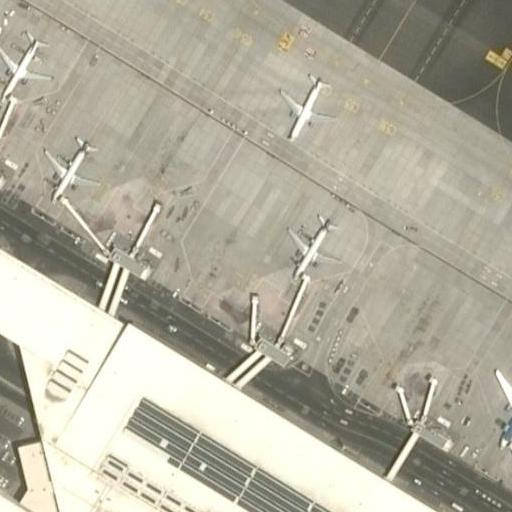Aircraft: (275, 68, 333, 142), (39, 133, 96, 197), (0, 25, 50, 94), (283, 210, 337, 273), (491, 344, 512, 441)
